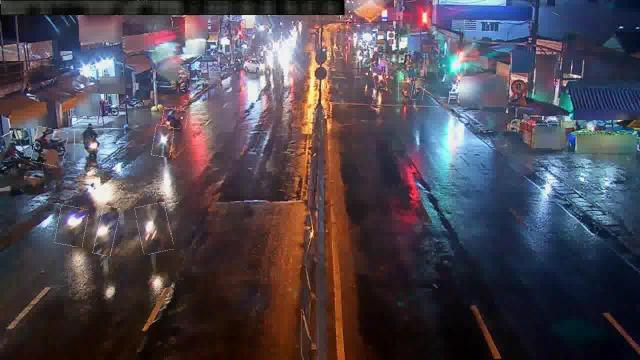Bike: (136, 202, 172, 253), (33, 128, 67, 166), (56, 206, 88, 246), (96, 206, 118, 256), (75, 130, 109, 160), (152, 126, 174, 156), (162, 109, 188, 129), (374, 66, 386, 90), (412, 78, 424, 100), (399, 81, 411, 101)
